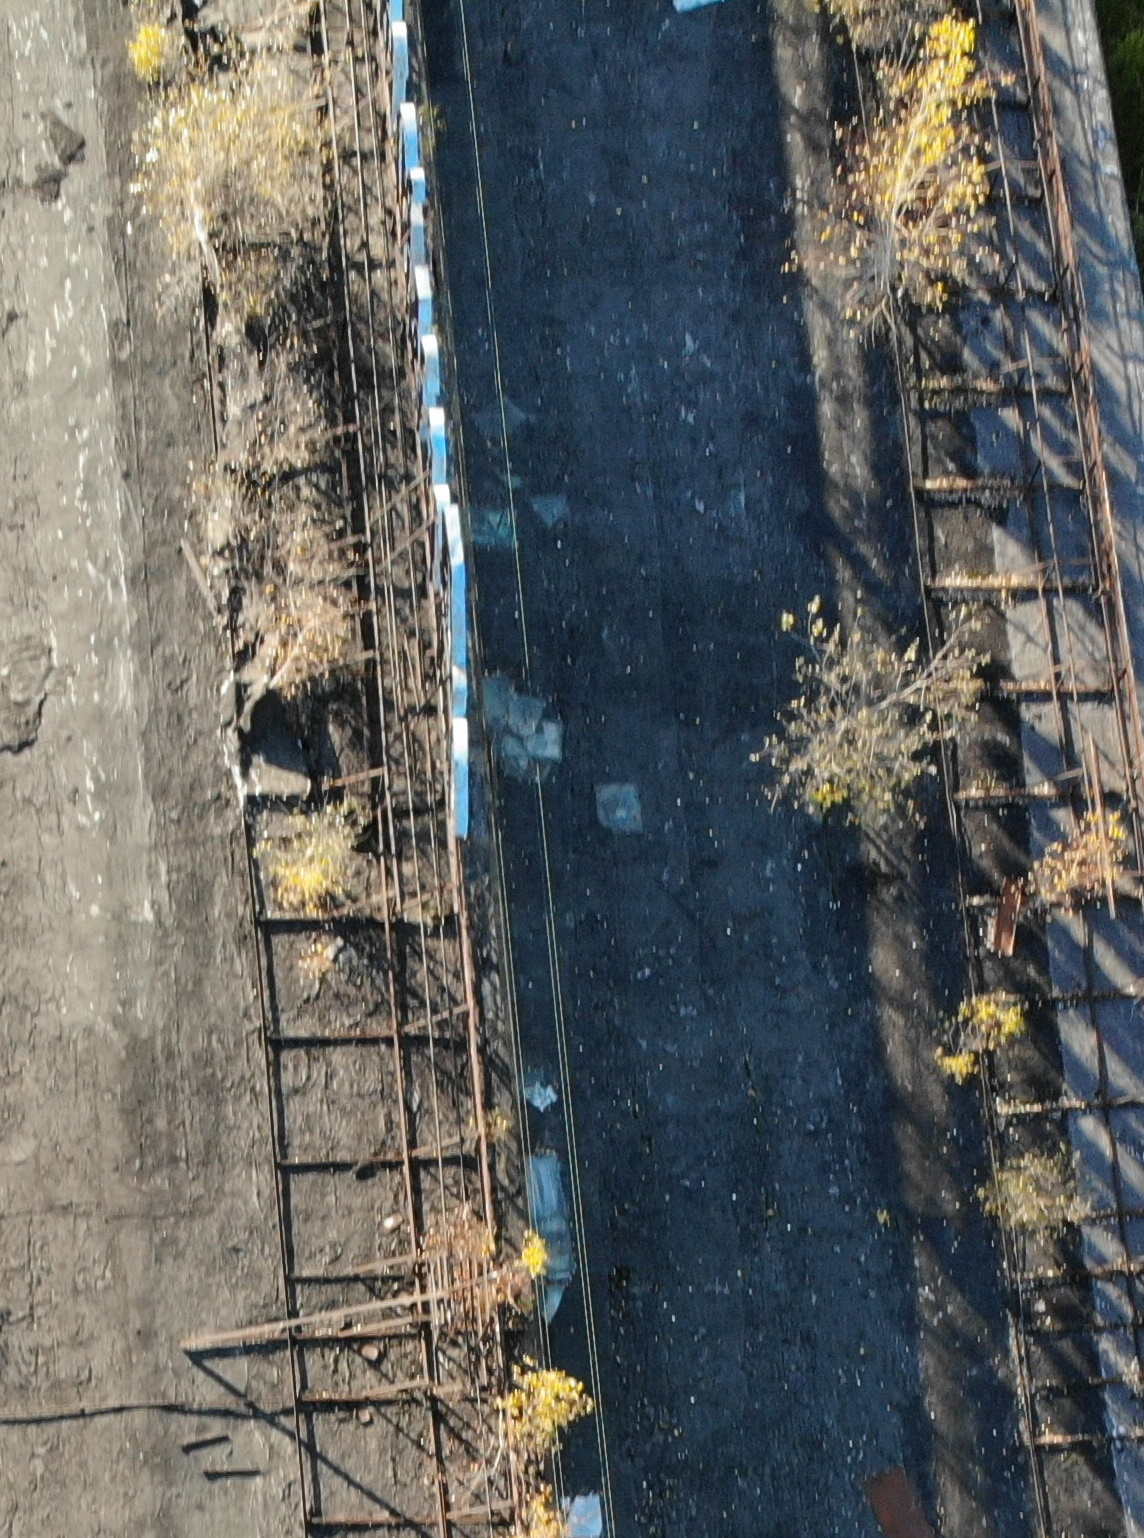tree: (741, 547, 1007, 862), (822, 8, 1025, 372), (129, 44, 354, 345), (163, 473, 409, 750), (207, 776, 394, 960), (1002, 789, 1140, 1001), (467, 1335, 622, 1522), (964, 1132, 1110, 1324), (923, 974, 1050, 1122), (467, 1199, 578, 1360)
